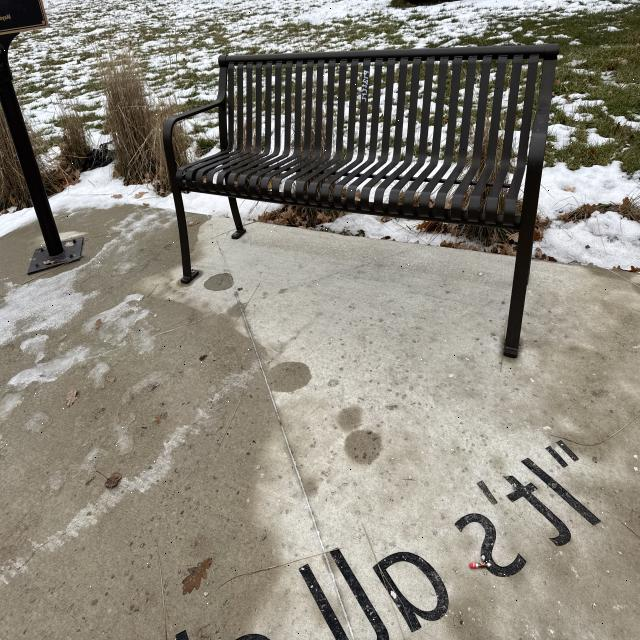Bench: (177, 35, 557, 321)
